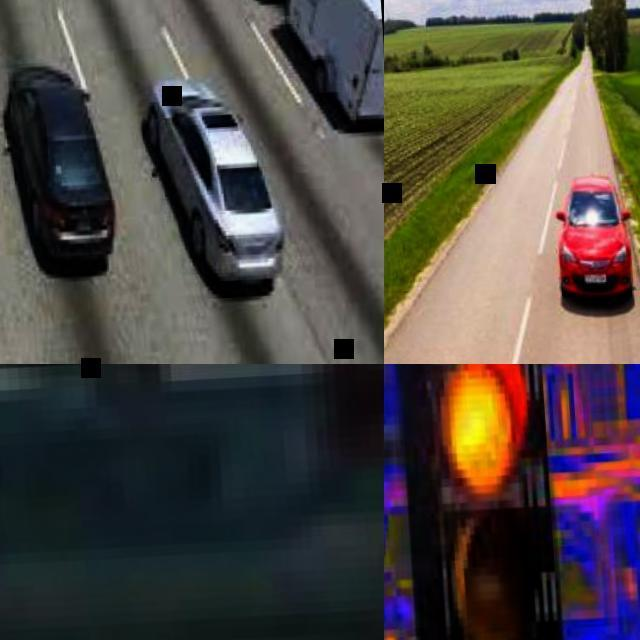car: (143, 70, 290, 297), (4, 51, 121, 274), (559, 176, 639, 305)
